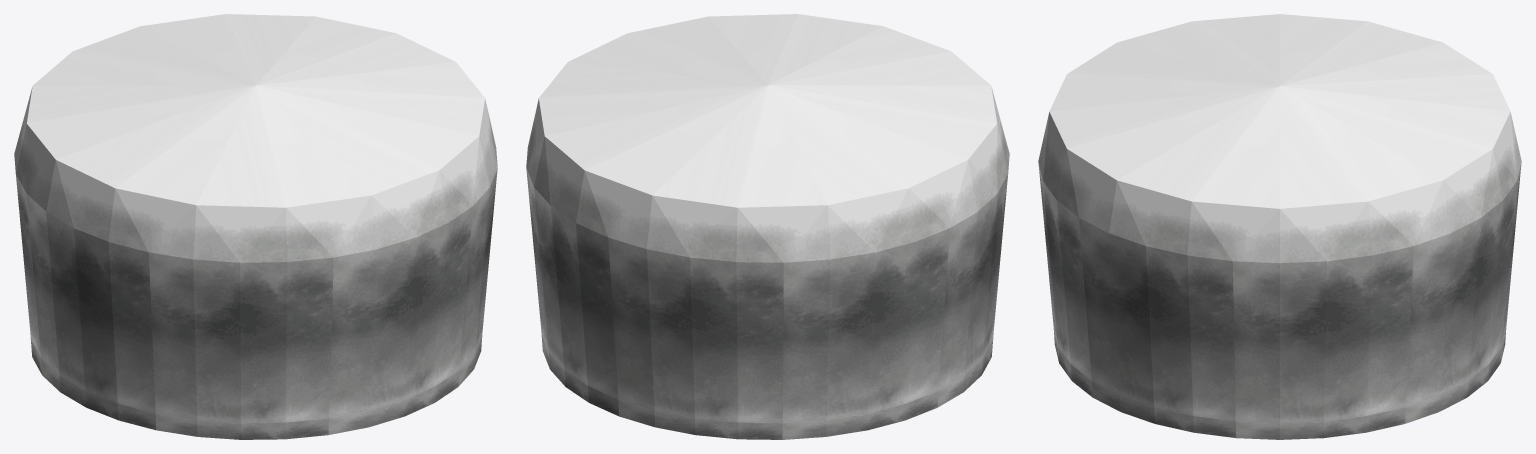
3 renders of one model, left to right at view 1: azimuth 30°, elevation 25°; view 2: azimuth 150°, elevation 25°; view 3: azimuth 270°, elevation 25°, orthographic.
Parts seen in each view (by area): view 1: mesh00; view 2: mesh00; view 3: mesh00.
Part boxes in pixels (left/top/right/bottom): mesh00: left=14, top=14, right=497, bottom=439; mesh00: left=526, top=14, right=1009, bottom=439; mesh00: left=1038, top=14, right=1521, bottom=439.
Bounding box in the file's own units: 33083 × 19542 × 33083.
